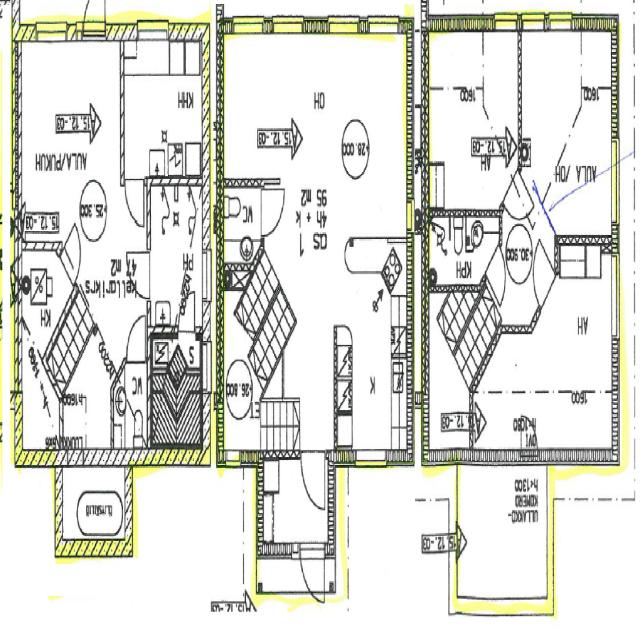door: (524, 241, 556, 311), (502, 170, 534, 238), (300, 542, 324, 612), (485, 246, 513, 306), (60, 226, 87, 286), (302, 449, 324, 510), (126, 250, 150, 299), (260, 190, 284, 236), (125, 177, 144, 226), (83, 0, 104, 42), (521, 412, 537, 466), (178, 291, 195, 340), (126, 317, 144, 363)
